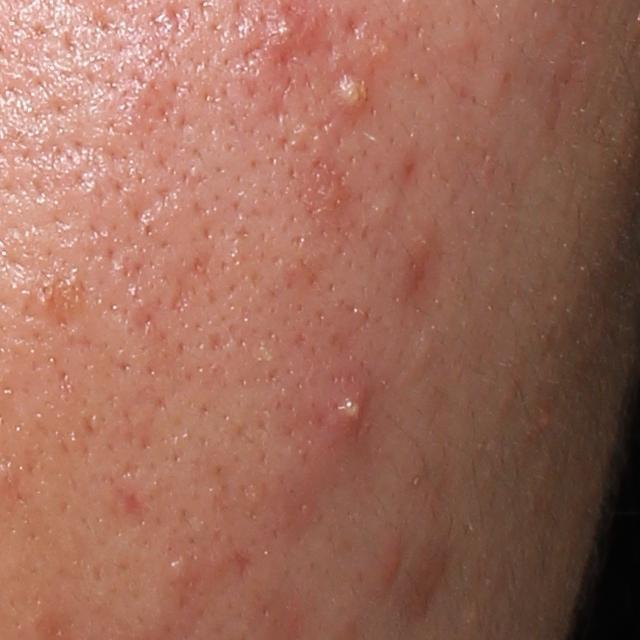atrophic_scar: (344, 12, 366, 41)
comedo: (171, 555, 193, 578)
papule: (374, 535, 404, 604)
pustule: (330, 388, 374, 433), (336, 72, 371, 113)
